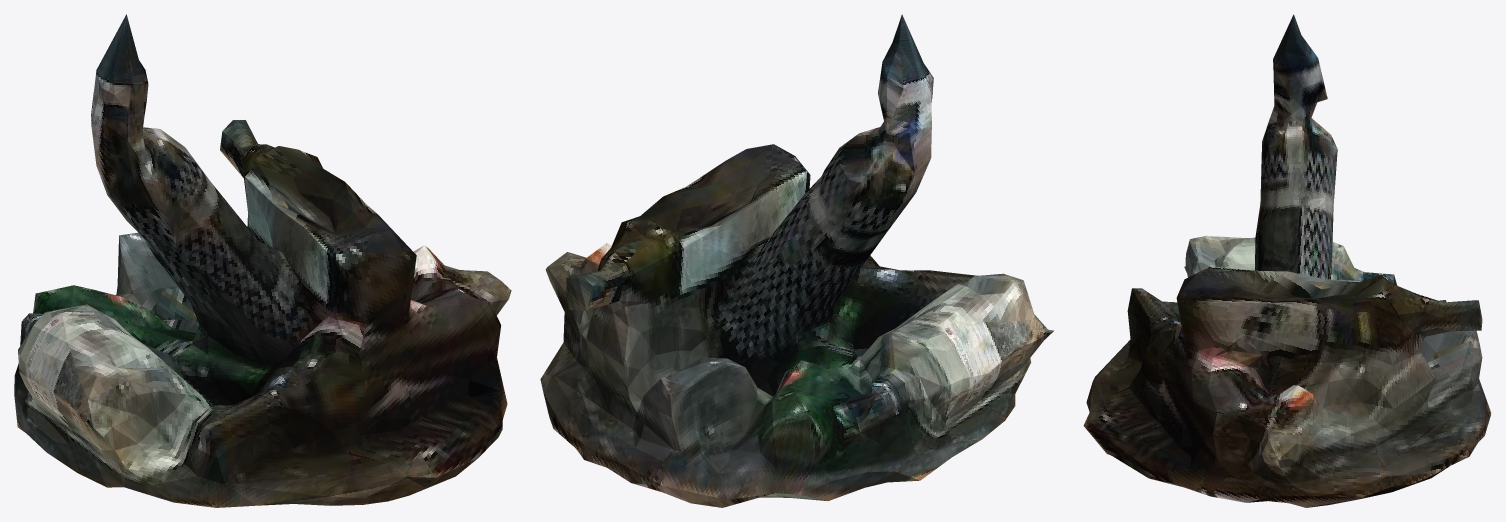
File: smart-min.glb
The picture shows the model from 3 angles, left to right: view 1: azimuth 30°, elevation 25°; view 2: azimuth 150°, elevation 25°; view 3: azimuth 270°, elevation 25°; orthographic projection. The views are drawn at different scales.
Parts seen in each view (by area): view 1: Mesh_0; view 2: Mesh_0; view 3: Mesh_0.
Boxes of the visible parts, x1,y1,x2,y2 form: Mesh_0: (14, 14, 511, 507); Mesh_0: (540, 14, 1053, 507); Mesh_0: (1083, 14, 1491, 507).
Bounding box in the file's own units: 0.4083 × 0.3763 × 0.3755.
1 material, 1 textured.
